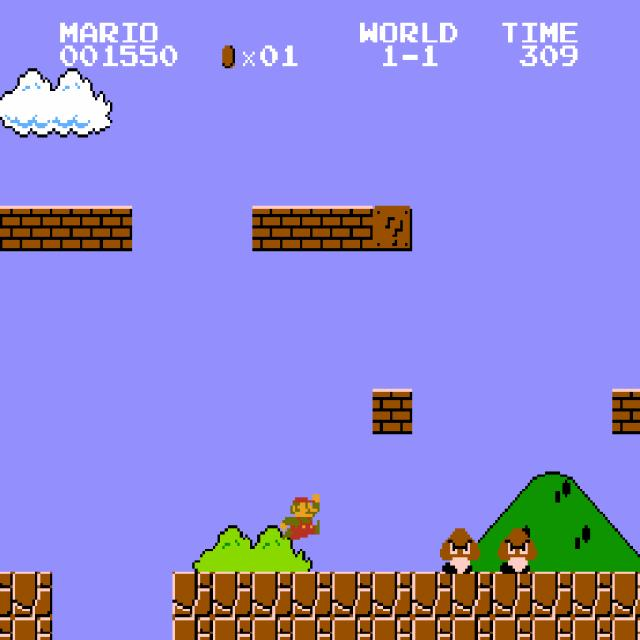brick_block: (12, 206, 53, 251), (52, 206, 93, 251), (92, 206, 133, 251), (252, 206, 293, 251), (292, 206, 333, 251), (332, 206, 373, 251), (372, 389, 413, 434), (612, 389, 640, 434), (0, 206, 13, 251)
goomba: (438, 526, 480, 574), (495, 526, 537, 574)
little_mario: (277, 492, 320, 540)
mystery_block: (372, 206, 413, 251)
undestructible_block: (12, 572, 53, 617), (172, 572, 213, 617), (212, 572, 253, 617), (252, 572, 293, 617), (292, 572, 333, 617), (332, 572, 373, 617), (372, 572, 413, 617), (412, 572, 453, 617), (452, 572, 493, 617), (492, 572, 533, 617), (532, 572, 573, 617), (572, 572, 613, 617), (612, 572, 640, 617), (12, 617, 53, 640), (172, 617, 213, 640), (212, 617, 253, 640), (252, 617, 293, 640), (292, 617, 333, 640), (332, 617, 373, 640), (372, 617, 413, 640), (412, 617, 453, 640), (452, 617, 493, 640), (492, 617, 533, 640), (532, 617, 573, 640), (572, 617, 613, 640), (612, 617, 640, 640), (0, 572, 13, 617), (0, 617, 13, 640)
